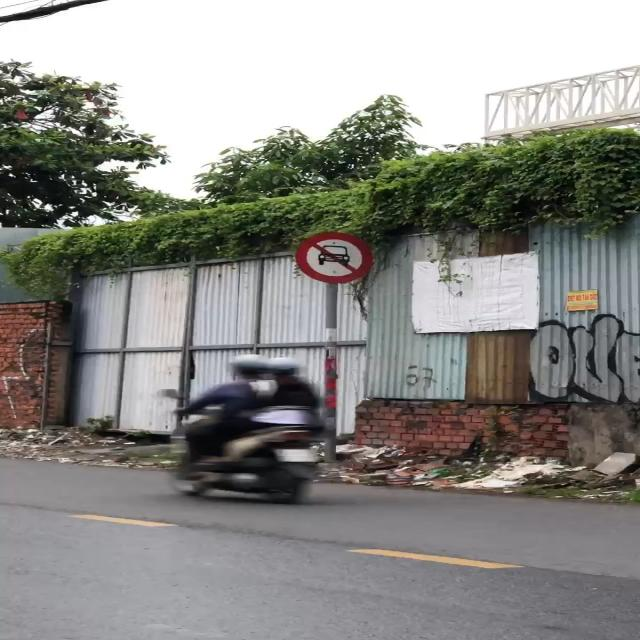Bien bao cam xe oto: (290, 229, 380, 285)
